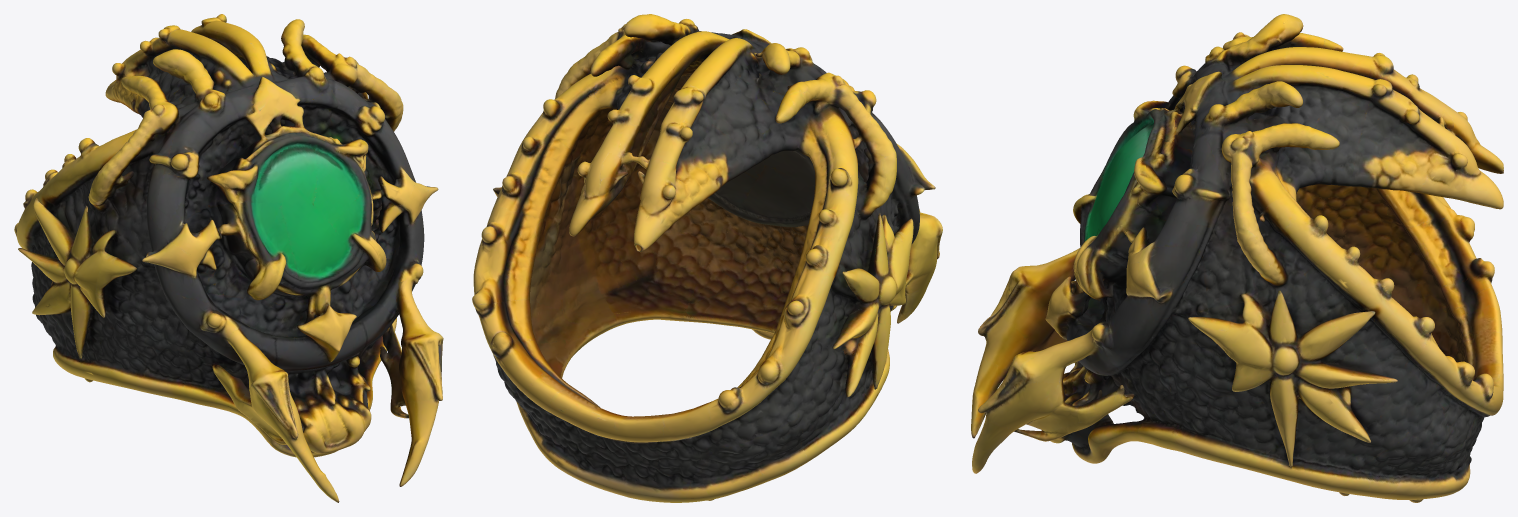
File: ring-2024.glb
3 renders of one model, left to right at view 1: azimuth 30°, elevation 25°; view 2: azimuth 150°, elevation 25°; view 3: azimuth 270°, elevation 25°, orthographic. The views are drawn at different scales.
Size of the model in its own units: 1.65 by 1.75 by 2.
Materials: 1 (1 with a texture image).
